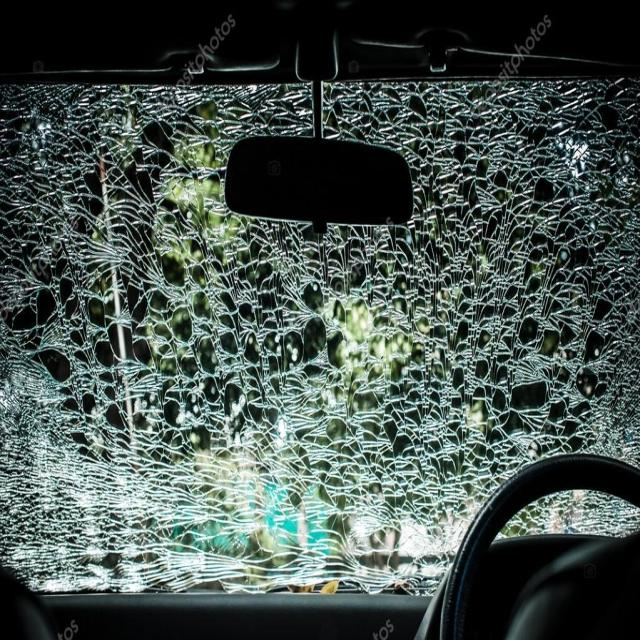crack: (0, 78, 640, 597)
